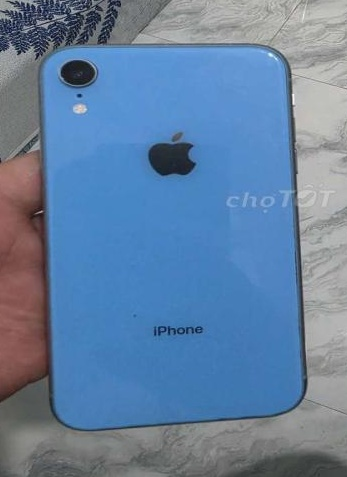scratch: (110, 304, 153, 332), (49, 64, 74, 83)
